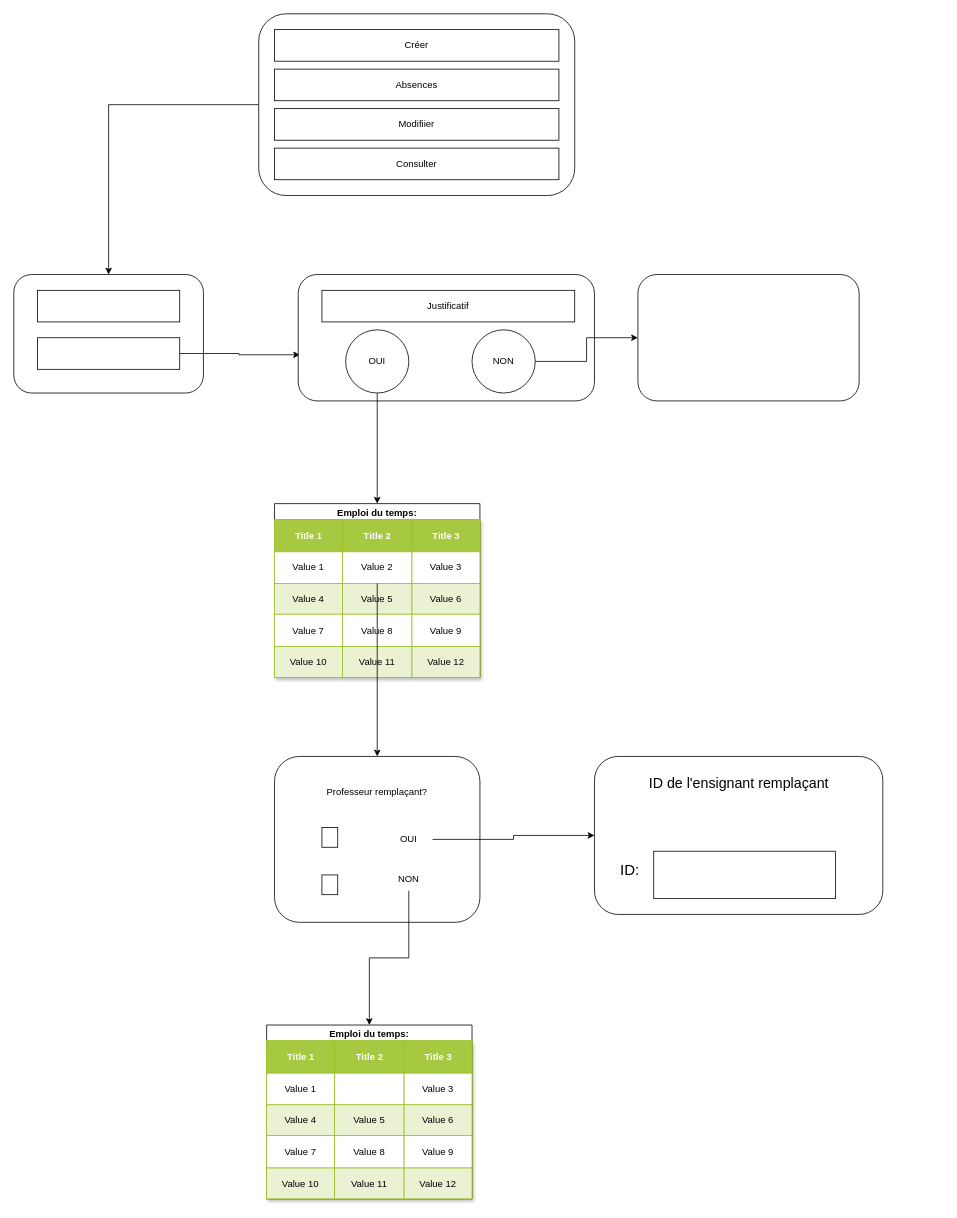
Image size: 957x1218. Some labels were removed from this diagram. The shapes that lost their labels are listed below. From the top down, each one's centre as x and y in pixels, then its label:
At (108,306): "étudiant".
At (108,353): "enseignant".
At (748,337): "Enseignant absent".
